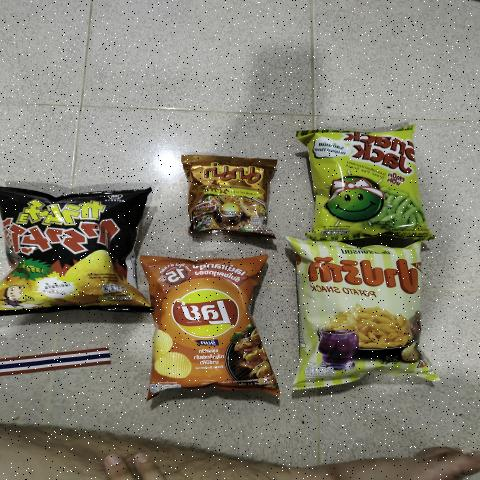karamujo: (12, 194, 130, 305)
mama: (196, 167, 261, 229)
paprika: (302, 250, 412, 390)
snack_jack: (323, 130, 413, 235)
